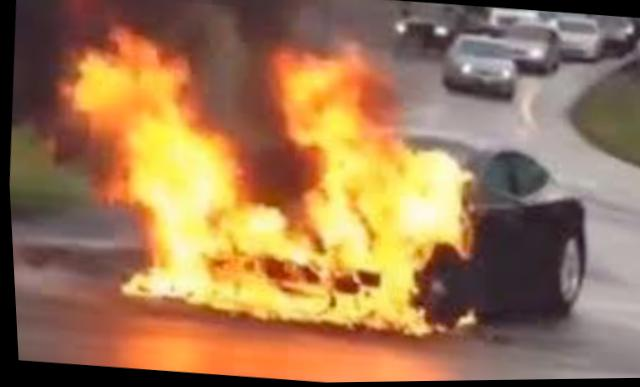fire: (30, 7, 330, 342), (239, 32, 490, 324)
